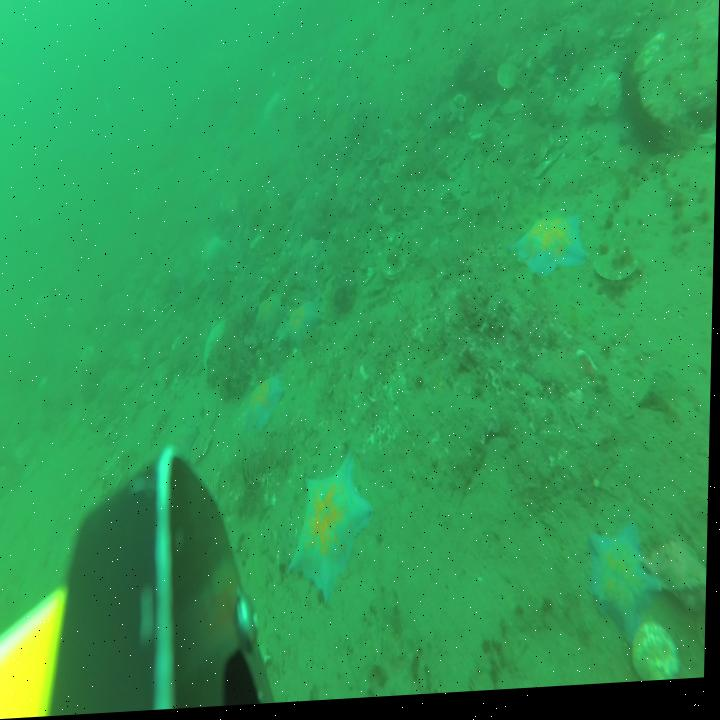echinus: (618, 62, 651, 121), (633, 111, 666, 166)
holothurian: (153, 409, 172, 447)
scallop: (636, 632, 683, 690), (596, 256, 639, 292), (381, 250, 407, 287), (192, 430, 214, 467), (105, 474, 125, 505), (498, 67, 519, 96), (202, 402, 218, 437), (504, 105, 524, 129), (122, 372, 139, 395), (102, 458, 118, 477)
starfish: (291, 452, 376, 612), (590, 525, 665, 655), (511, 221, 585, 286), (245, 377, 287, 440), (283, 301, 323, 356), (258, 299, 286, 335), (302, 239, 325, 268)
